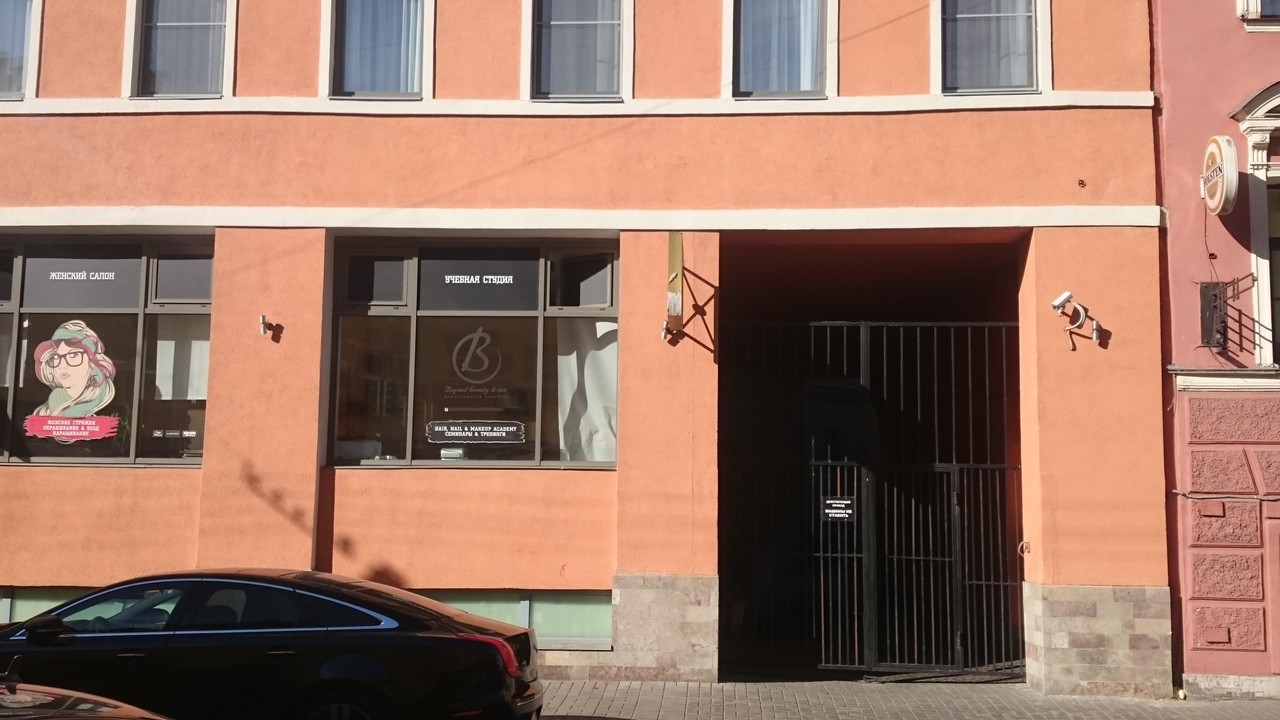arch: (718, 226, 1036, 694)
cantilever: (1199, 133, 1237, 219), (665, 228, 687, 338)
window: (331, 238, 618, 465), (1, 236, 207, 465)
